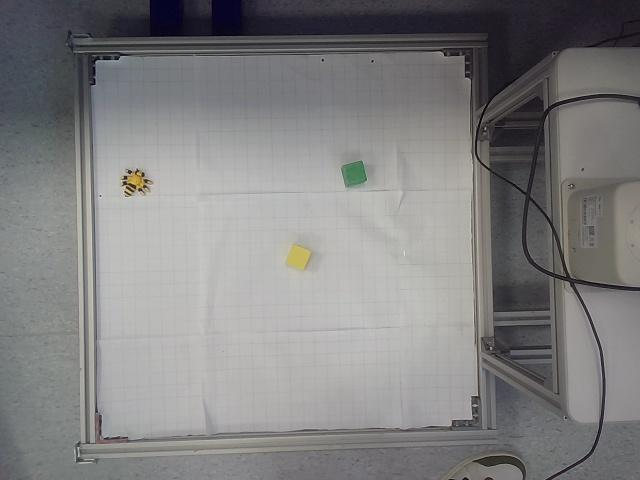frelon: (121, 168, 154, 197)
